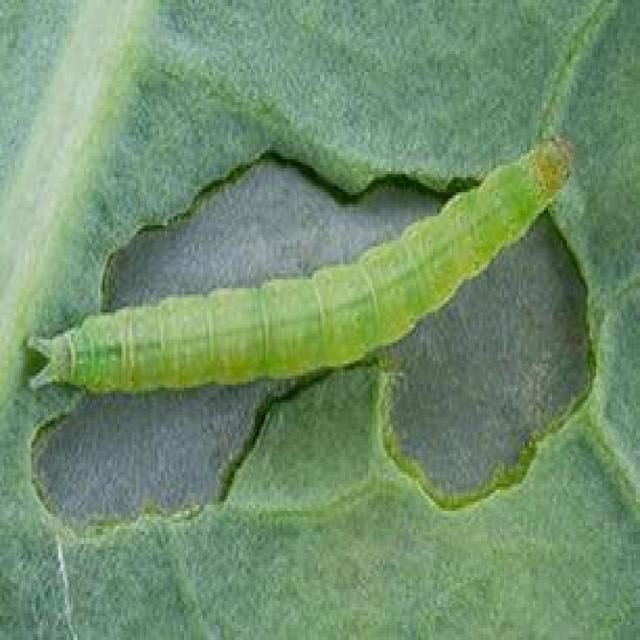BeetArmyWorm-Larva-: (25, 136, 583, 407)
